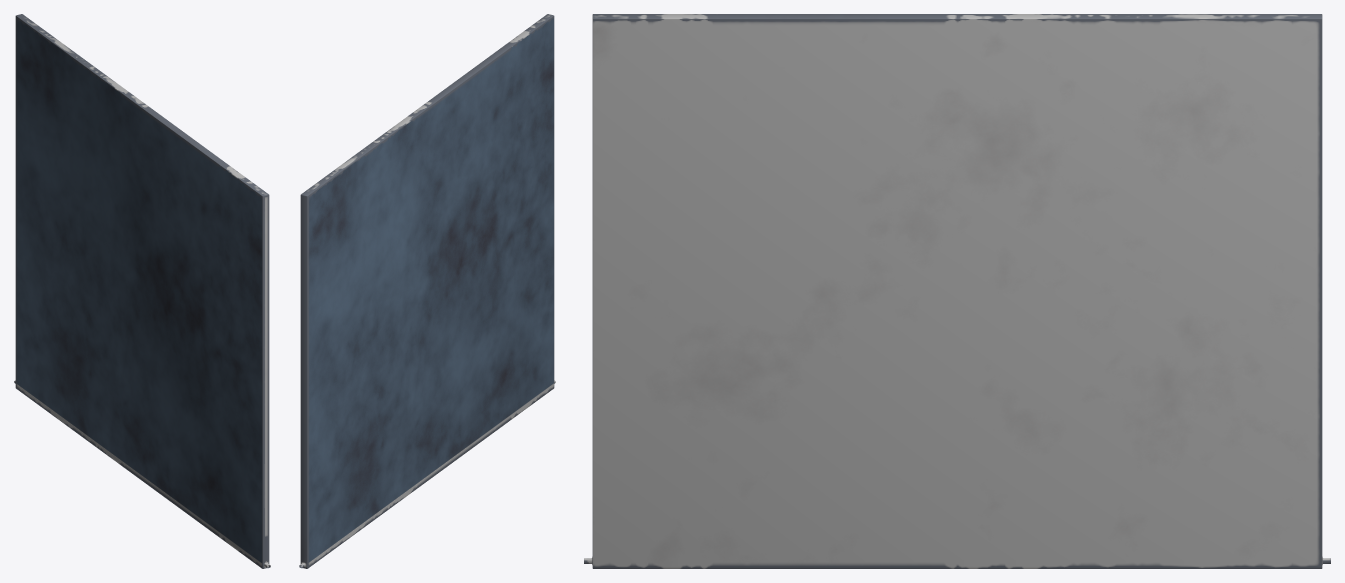
File: electricBox2Door.gltf
3 views of the same model, side by side, from view 1: azimuth 30°, elevation 25°; view 2: azimuth 150°, elevation 25°; view 3: azimuth 270°, elevation 25° (orthographic). The views are drawn at different scales.
Visible parts, largest first — view 1: electricBox2Door; view 2: electricBox2Door; view 3: electricBox2Door.
Part boxes in pixels (<box>): electricBox2Door: <box>14,14,270,568</box>; electricBox2Door: <box>299,14,555,568</box>; electricBox2Door: <box>584,14,1330,568</box>.
Bounding box in the file's own units: 0.015 × 0.7563 × 0.9295.
Materials: 1 (1 with a texture image).
